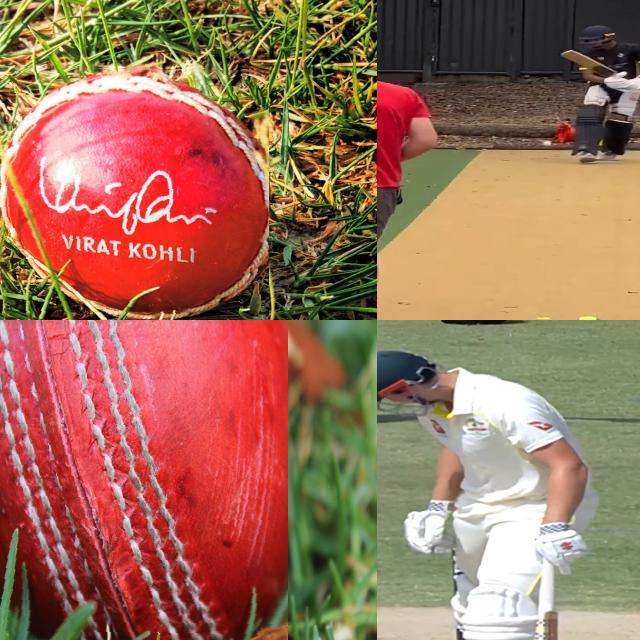Cricket ball: (0, 320, 287, 640), (0, 66, 269, 320), (541, 140, 553, 147)
